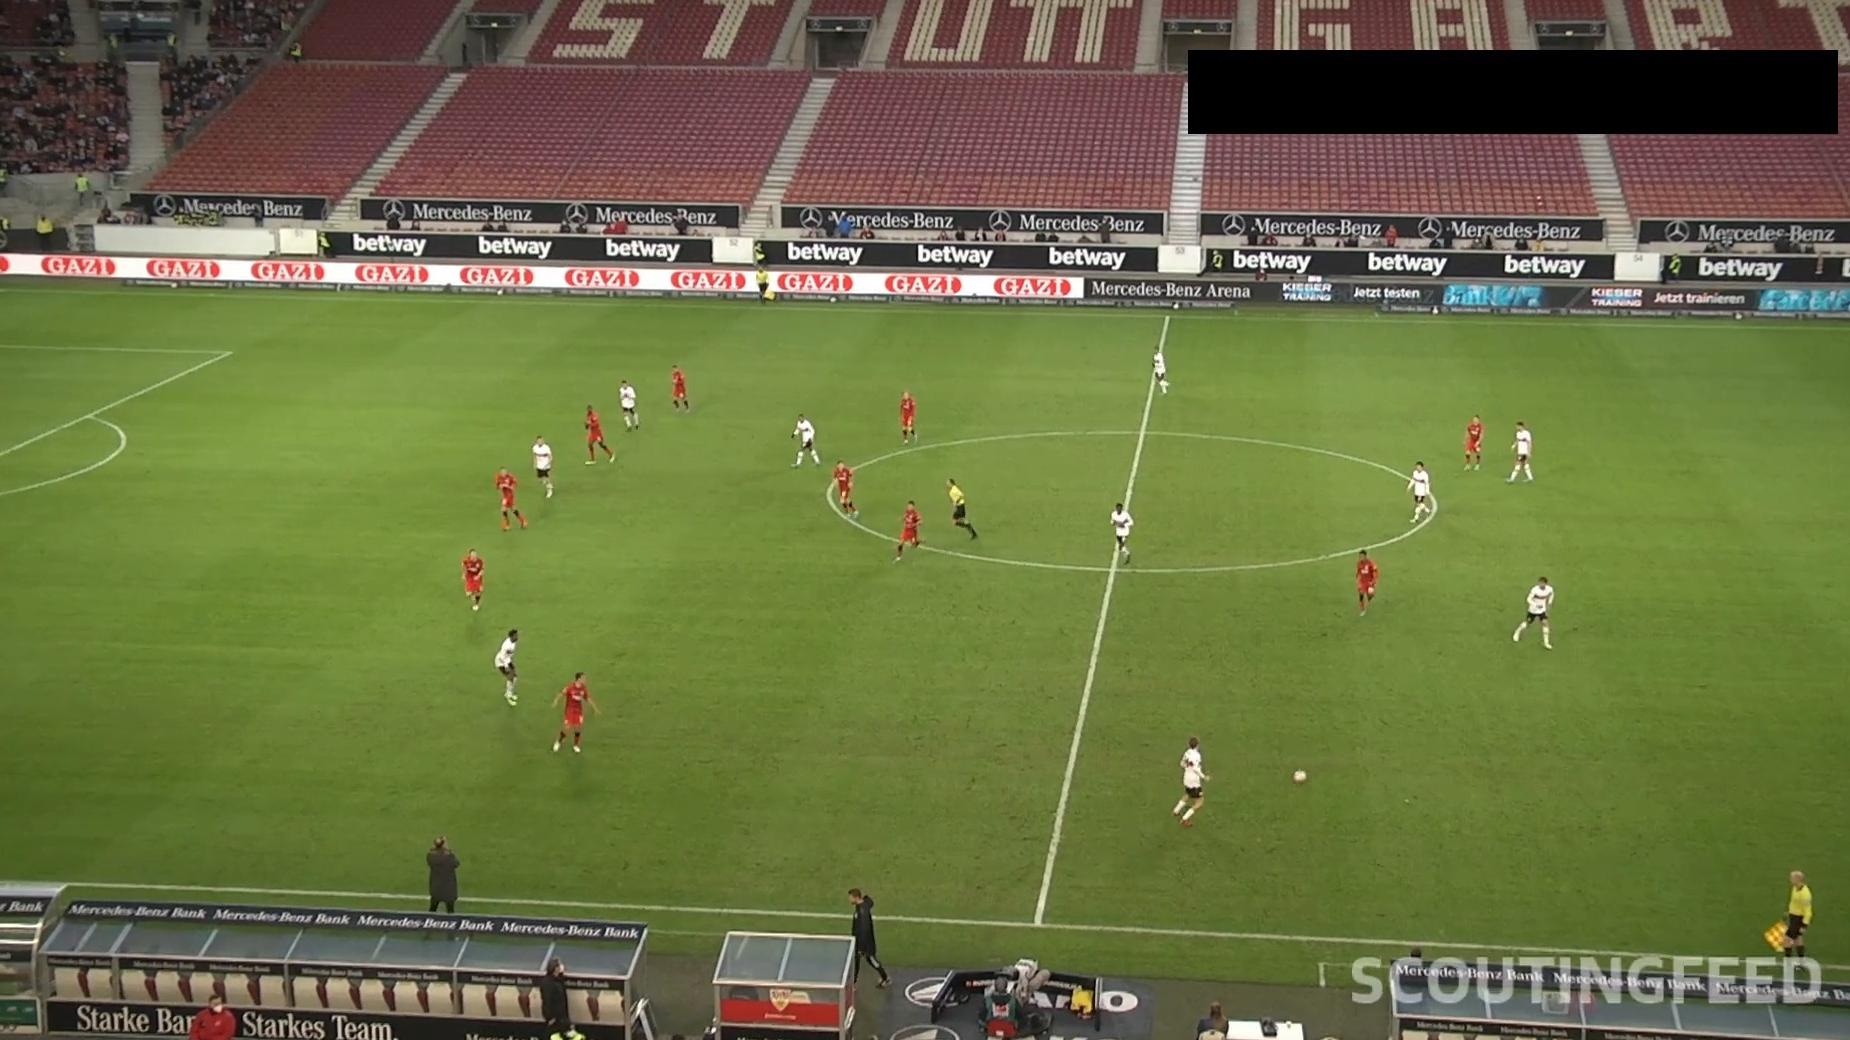ball: (1291, 768, 1309, 786)
